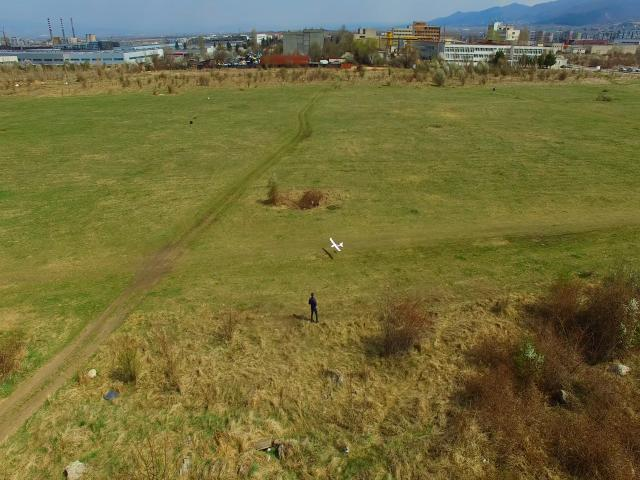plane: (328, 236, 344, 252)
